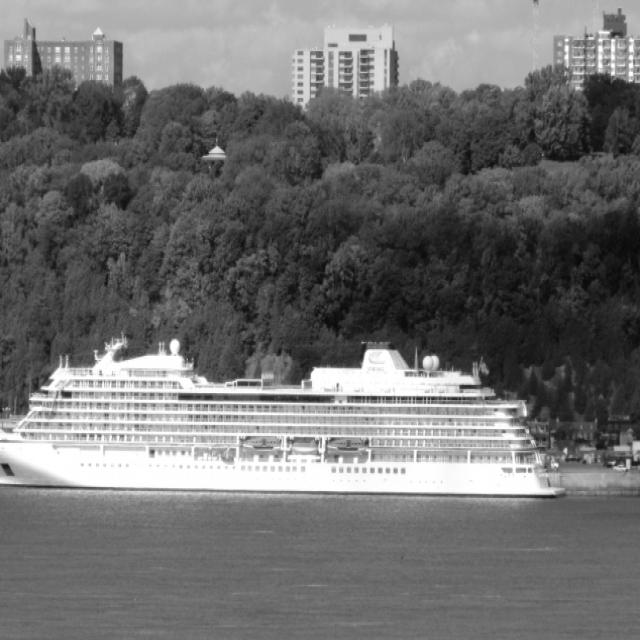cruises: (1, 322, 572, 508)
